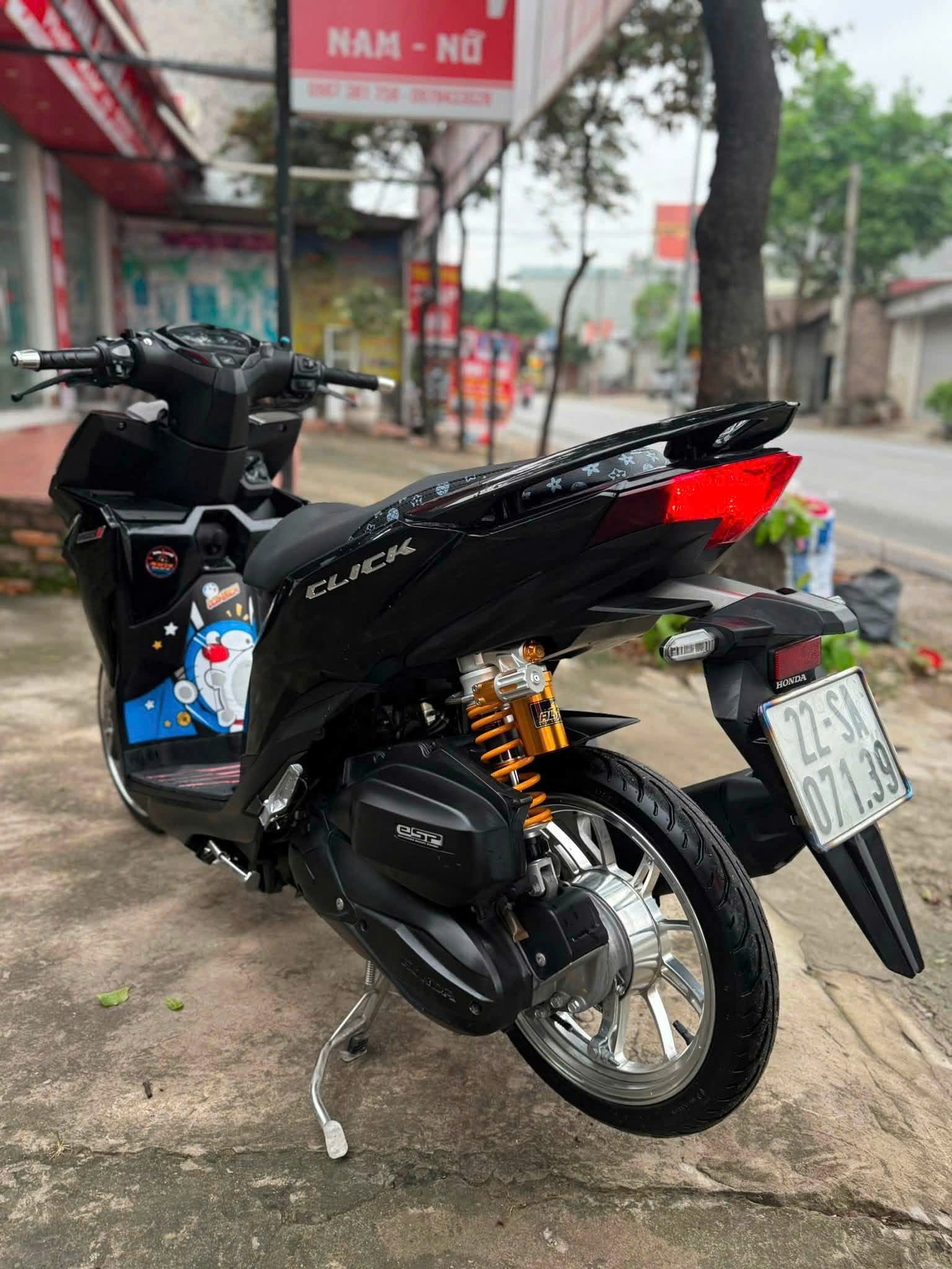Bien-so: (766, 664, 912, 854)
